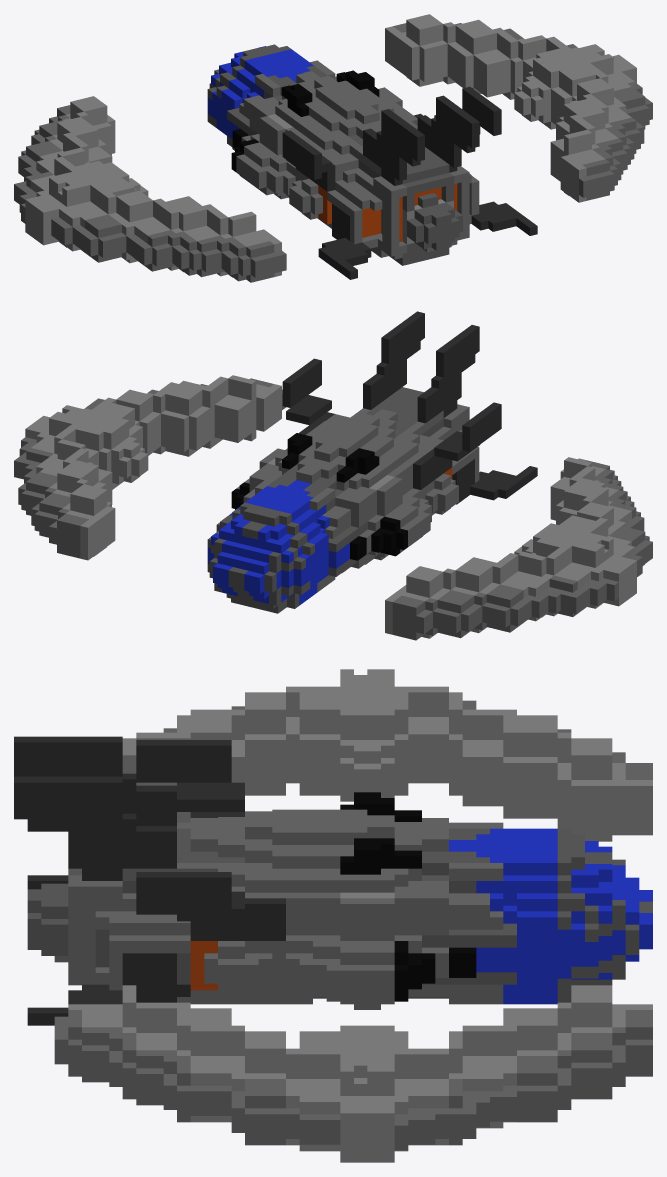
The model's file is Enemy3a.fbx.
3 renders of one model, top to bottom at view 1: azimuth 30°, elevation 25°; view 2: azimuth 150°, elevation 25°; view 3: azimuth 270°, elevation 25°, orthographic. The views are drawn at different scales.
Parts seen in each view (by area): view 1: Matrix; view 2: Matrix; view 3: Matrix.
Boxes of the visible parts, x1,y1,x2,y2 form: Matrix: (14, 14, 652, 282); Matrix: (14, 311, 652, 640); Matrix: (14, 669, 652, 1162).
Bounding box in the file's own units: 76 × 18 × 47.
